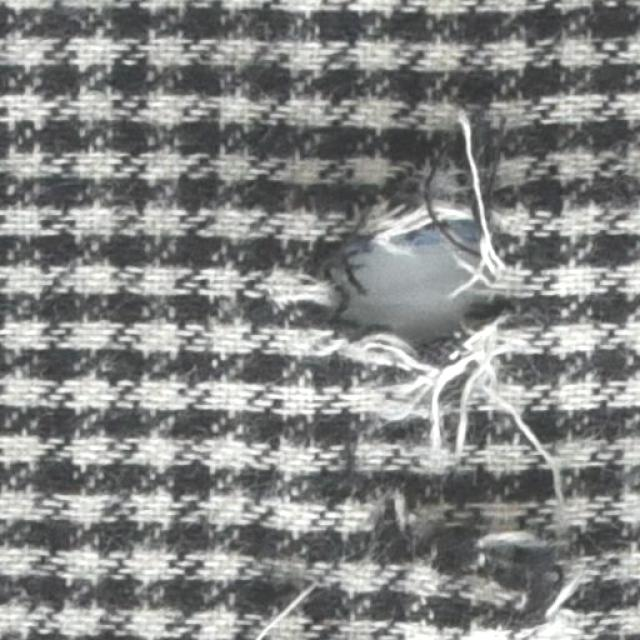Hole: (354, 237, 491, 330)
Snag: (316, 313, 571, 499), (334, 489, 578, 640), (455, 92, 513, 291)
